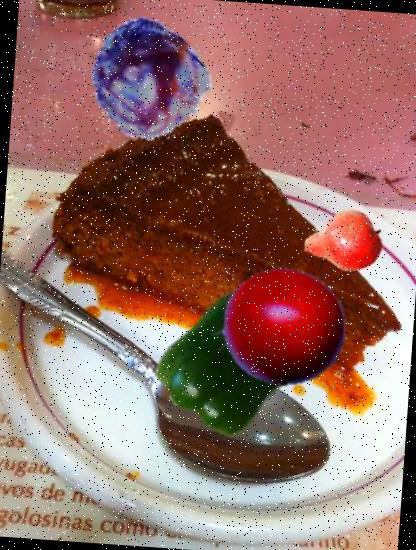Dates: (84, 17, 210, 143)
Pear: (296, 198, 386, 289)
Pepper: (156, 285, 311, 440)
Tamarillo: (205, 254, 351, 400)
